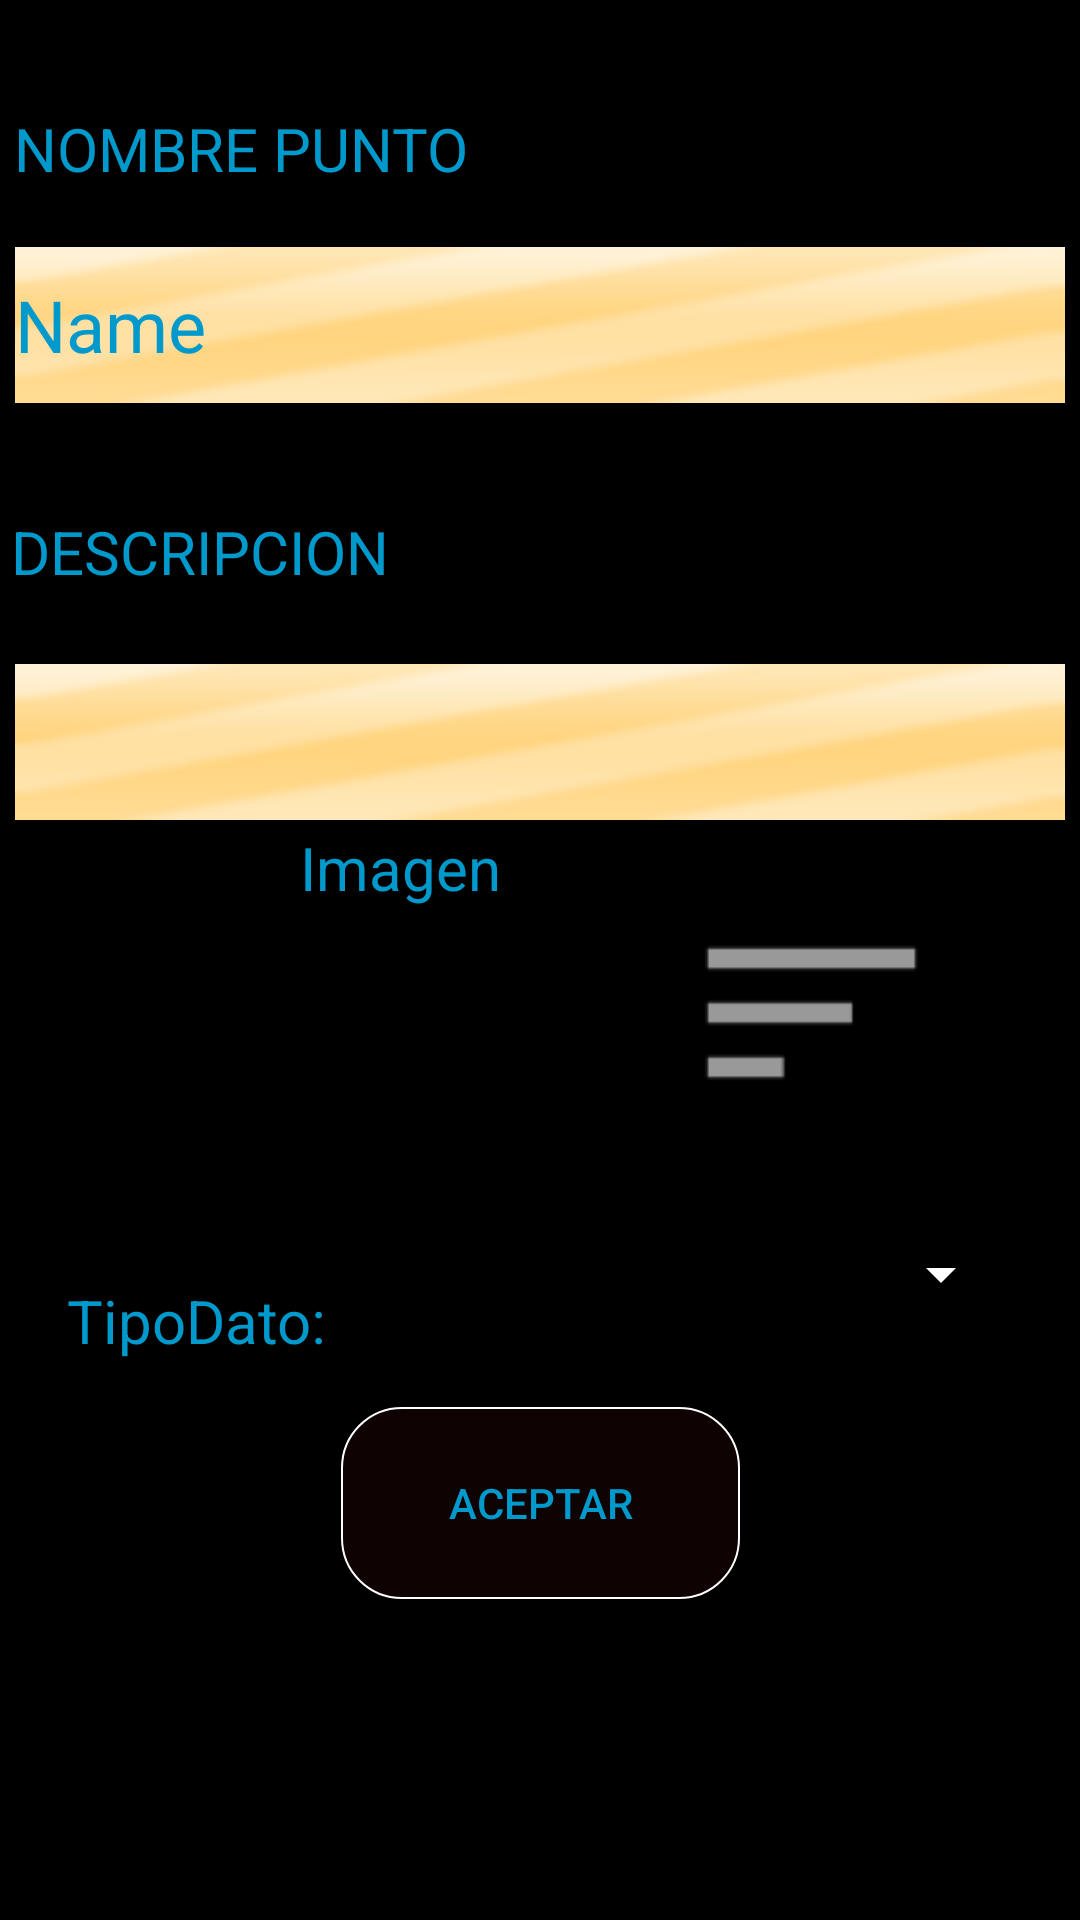

Point at icon controls on the screen. Image size 1080 × 1920, points as (x=x, y=y).
sort by size: (x=811, y=1013)
